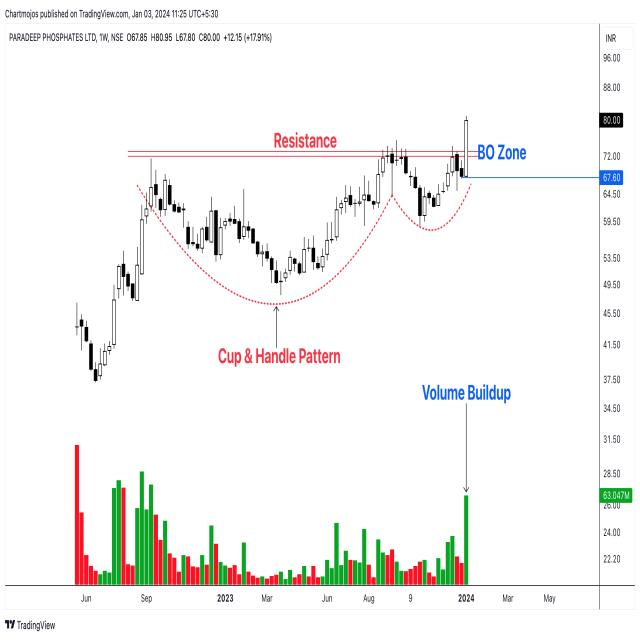Cup-and-handle: (140, 148, 472, 301)
